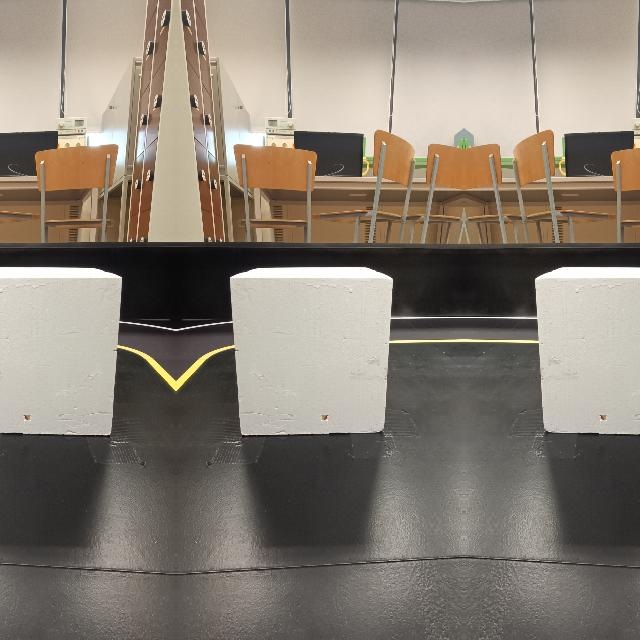obstacle: (229, 264, 393, 433), (0, 264, 121, 433), (534, 264, 640, 433)
